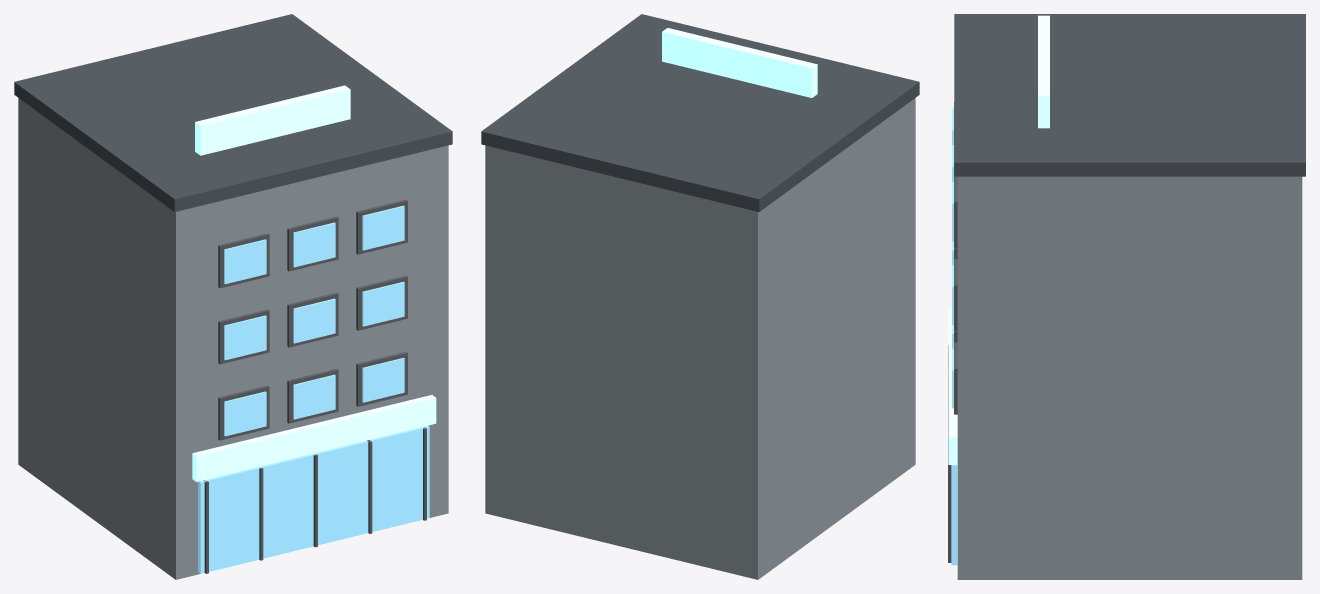
The model's file is building_commercial_b.glb.
The picture shows the model from 3 angles, left to right: view 1: azimuth 30°, elevation 25°; view 2: azimuth 150°, elevation 25°; view 3: azimuth 270°, elevation 25°; orthographic projection. The views are drawn at different scales.
Visible parts, largest first — view 1: building_commercial_b; view 2: building_commercial_b; view 3: building_commercial_b.
Boxes of the visible parts, <box> form: building_commercial_b: <box>14,14,452,579</box>; building_commercial_b: <box>481,14,919,579</box>; building_commercial_b: <box>948,14,1305,579</box>.
Bounding box in the file's own units: 10.2 × 14.45 × 10.38.
